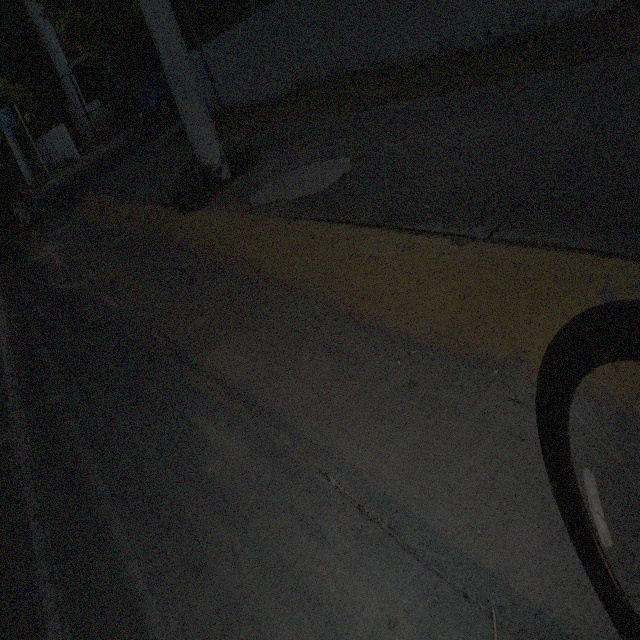pothole: (138, 314, 175, 356)
